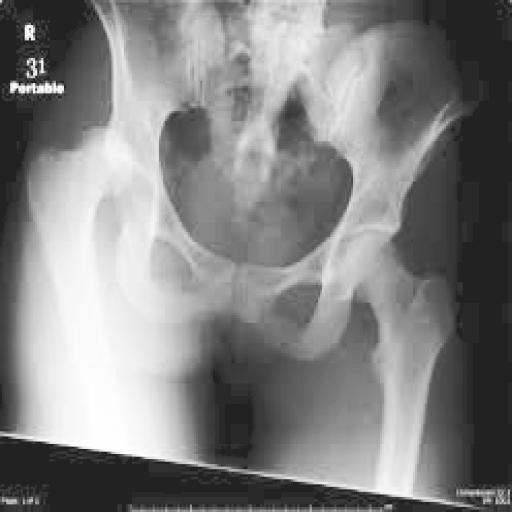dislocation: (29, 128, 133, 342)
normal: (338, 233, 453, 481)
